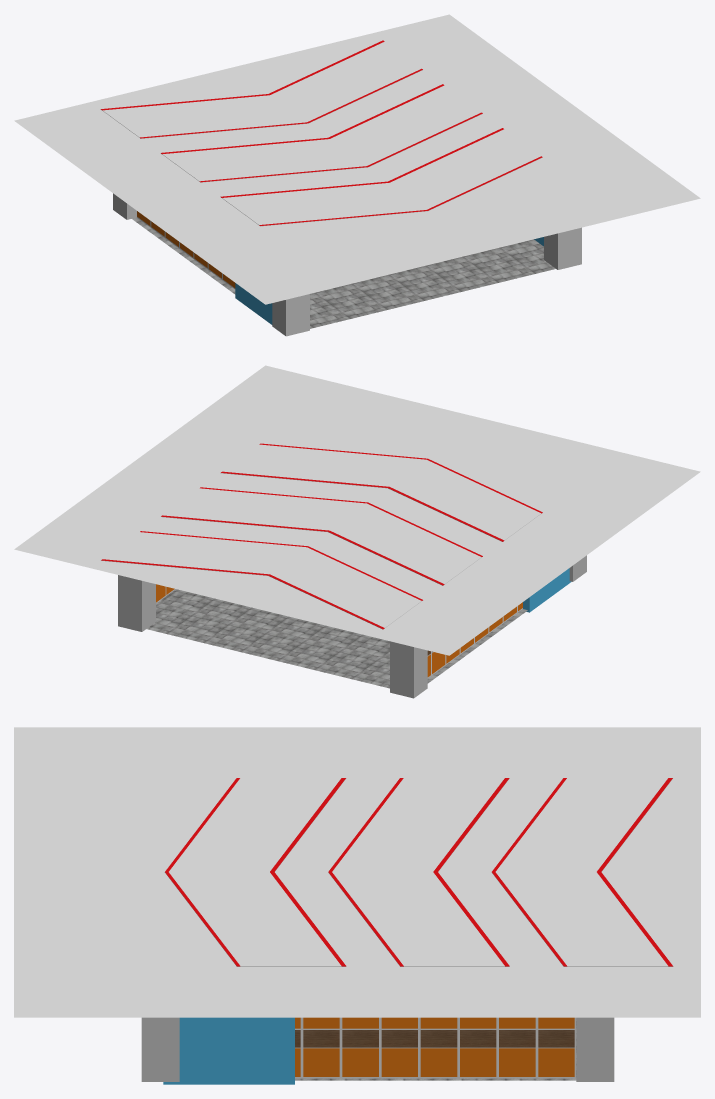
Rendered from classroom envi.fbx.
3 views of the same model, one above another, from view 1: azimuth 30°, elevation 25°; view 2: azimuth 150°, elevation 25°; view 3: azimuth 270°, elevation 25° (orthographic). The views are drawn at different scales.
Parts seen in each view (by area): view 1: Plane.141, Plane.140, Plane.128, Cube, Cube.001, Plane.139, Cube.006; view 2: Plane.141, Plane.140, Plane.128, Cube.004, Cube.003, Plane.139, Cube.006; view 3: Plane.141, Plane.140, Plane.138, Cube.005, Cube, Cube.003, Plane.128.
Boxes of the visible parts, box(x1,y1,x2,y2) form: Plane.141: box(14, 14, 700, 304); Plane.140: box(100, 40, 542, 226); Plane.128: box(132, 217, 555, 328); Cube: box(544, 227, 581, 269); Cube.001: box(272, 294, 309, 336); Plane.139: box(137, 211, 235, 288); Cube.006: box(235, 283, 272, 324); Plane.141: box(14, 365, 700, 655); Plane.140: box(101, 443, 542, 629); Plane.128: box(147, 589, 527, 688); Cube.004: box(390, 641, 427, 698); Cube.003: box(118, 575, 155, 631); Plane.139: box(427, 602, 522, 678); Cube.006: box(523, 568, 571, 612); Plane.141: box(14, 727, 700, 1017); Plane.140: box(164, 778, 673, 966); Plane.138: box(295, 1017, 575, 1078); Cube.005: box(163, 1017, 294, 1084); Cube: box(141, 1017, 179, 1081); Cube.003: box(576, 1017, 614, 1081); Plane.128: box(295, 1018, 576, 1080).
Size of the model in its own units: 1524 by 283 by 1524.
